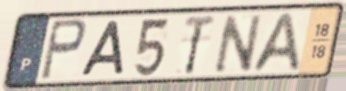5: (131, 15, 173, 78)
A: (247, 10, 303, 75), (78, 19, 127, 78)
N: (212, 12, 264, 76)
P: (37, 17, 88, 83)
T: (182, 12, 218, 77)
